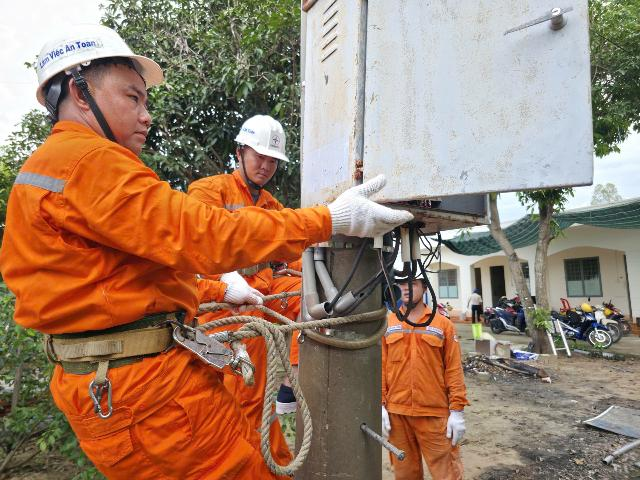gloves: (303, 180, 414, 248), (218, 266, 276, 321), (444, 396, 479, 447), (372, 400, 401, 448)
harness: (19, 289, 195, 368)
helmet: (18, 12, 173, 104), (221, 104, 289, 173)
